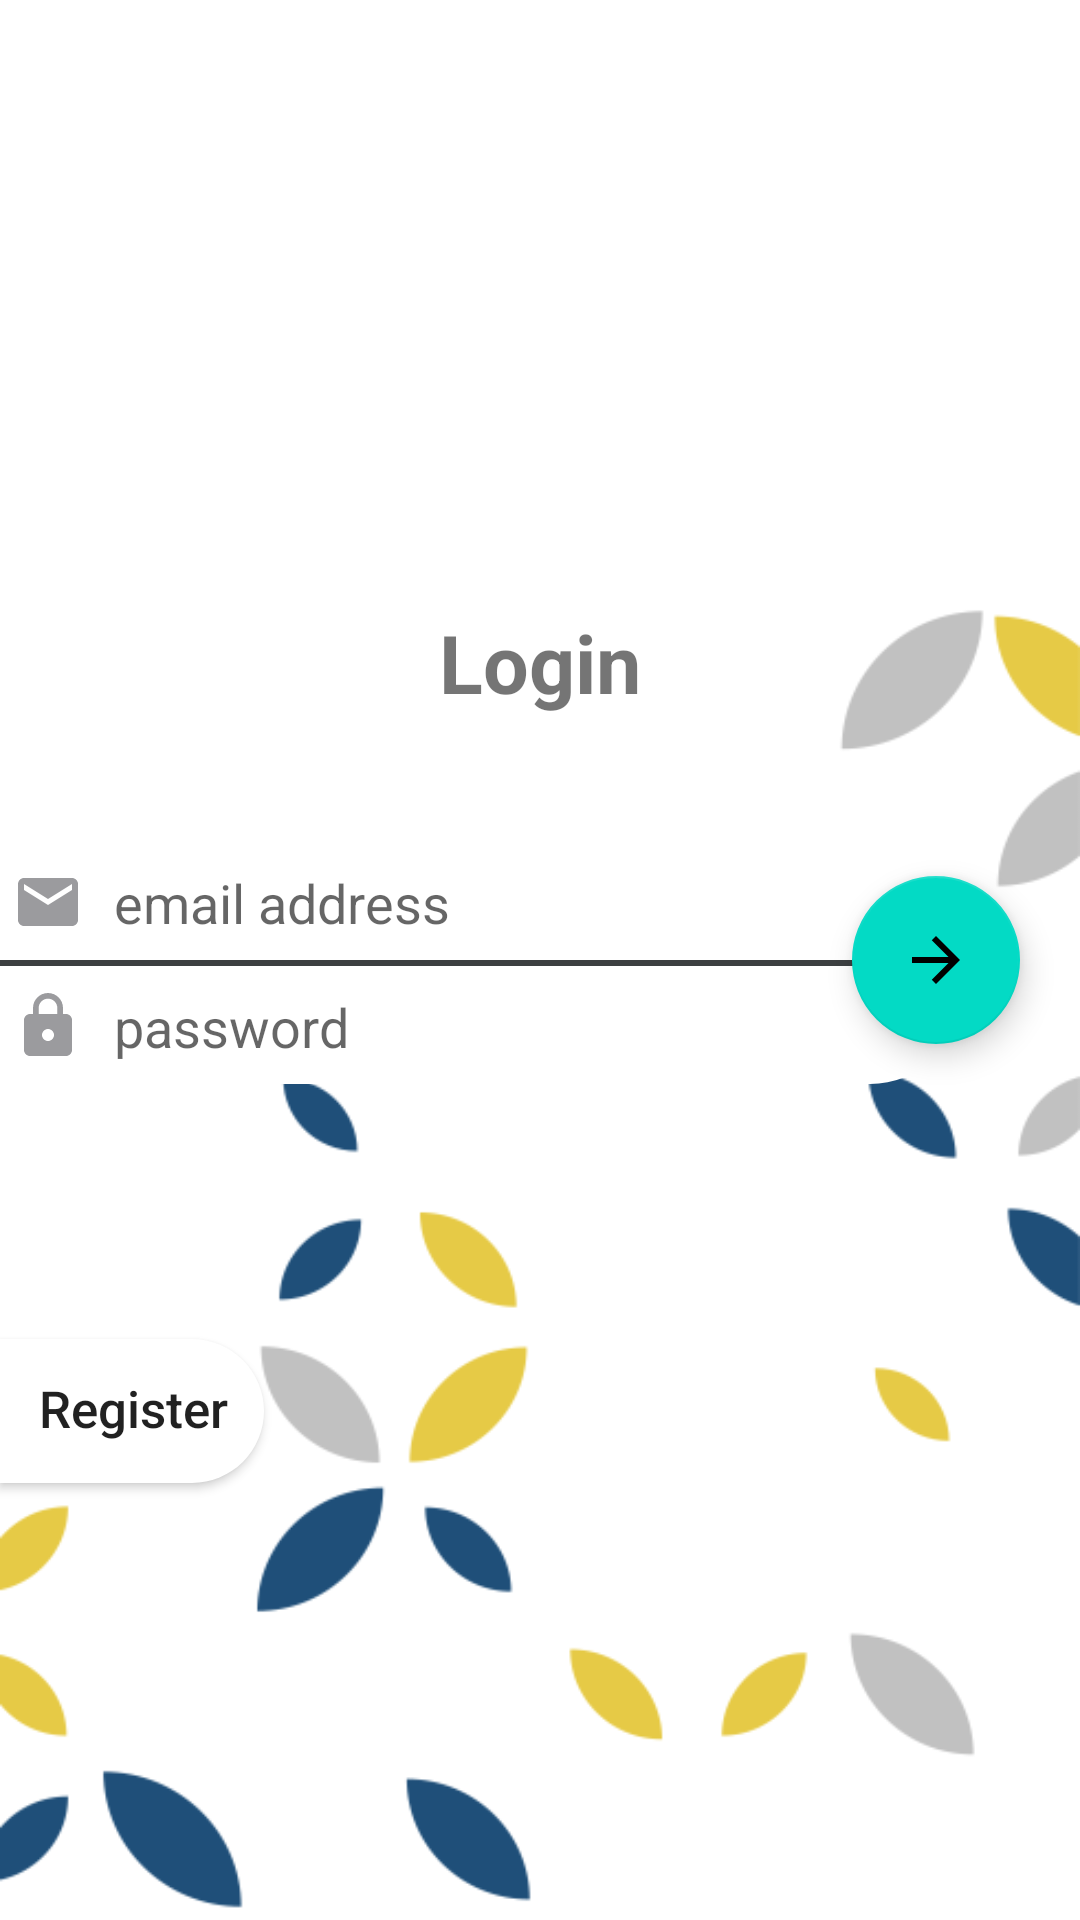

Icons on this 1080 x 1920 Android screen, each with the point to tap as [x,y]:
next: [936,960]
